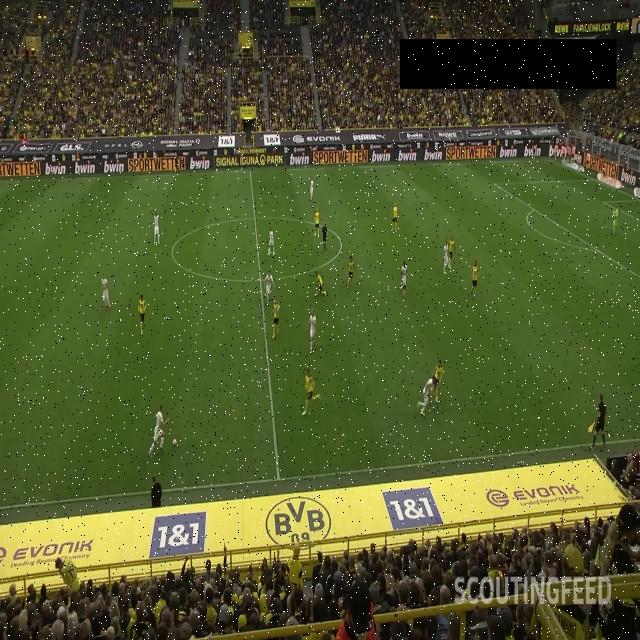Ball: (171, 438, 176, 448)
GoalKeeper: (611, 203, 619, 237)
Referee: (589, 391, 607, 450), (322, 222, 328, 250)
TEAM 1: (301, 367, 320, 419), (432, 360, 444, 402), (470, 257, 480, 298), (138, 293, 147, 337), (448, 234, 458, 271), (314, 269, 326, 299), (346, 255, 356, 289), (272, 302, 280, 339), (391, 203, 399, 234), (314, 208, 320, 239)
TEAM 2: (148, 404, 171, 462), (418, 374, 437, 418), (100, 273, 111, 314), (307, 309, 317, 354), (151, 206, 162, 246), (264, 271, 276, 306), (398, 260, 409, 298), (267, 225, 276, 258), (442, 239, 449, 277), (309, 176, 315, 200)
